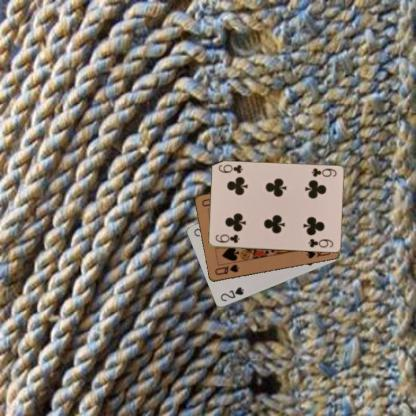2s: (218, 285, 245, 303)
6c: (308, 166, 338, 178), (213, 232, 240, 244)
Qs: (212, 262, 240, 276)
